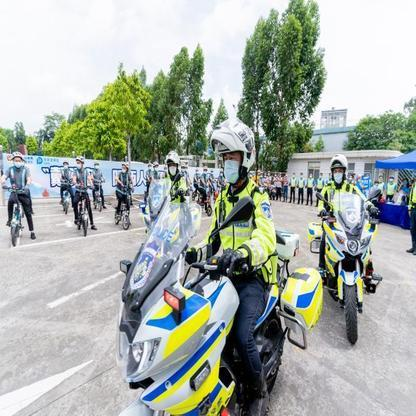target: (119, 116, 323, 410), (307, 150, 391, 342)
